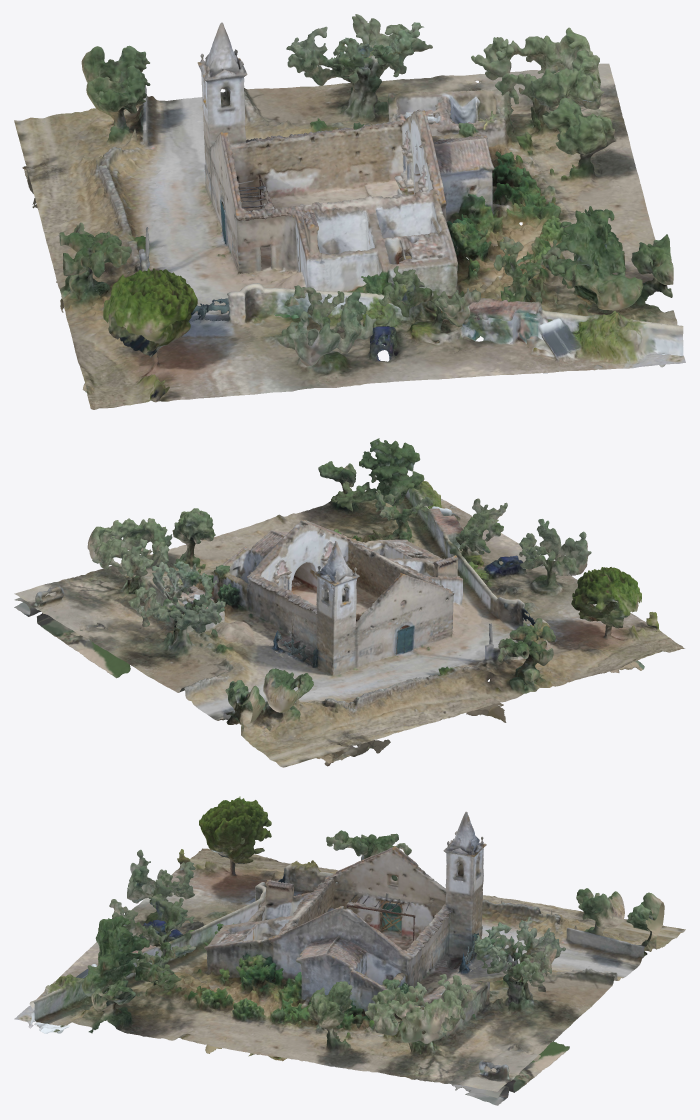
File: 1greja.glb
3 renders of one model, top to bottom at view 1: azimuth 30°, elevation 25°; view 2: azimuth 150°, elevation 25°; view 3: azimuth 270°, elevation 25°, orthographic. The views are drawn at different scales.
Parts seen in each view (by area): view 1: Fortios_3D_V3_Deci.001; view 2: Fortios_3D_V3_Deci.001; view 3: Fortios_3D_V3_Deci.001.
Part boxes in pixels (<box>): Fortios_3D_V3_Deci.001: <box>14,14,685,409</box>; Fortios_3D_V3_Deci.001: <box>14,438,684,767</box>; Fortios_3D_V3_Deci.001: <box>14,796,685,1105</box>.
Bounding box in the file's own units: 4809 × 1425 × 5013.
1 material, 1 textured.
